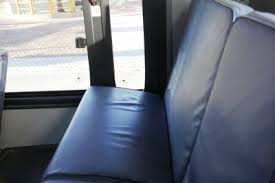seat: (56, 78, 211, 175)
